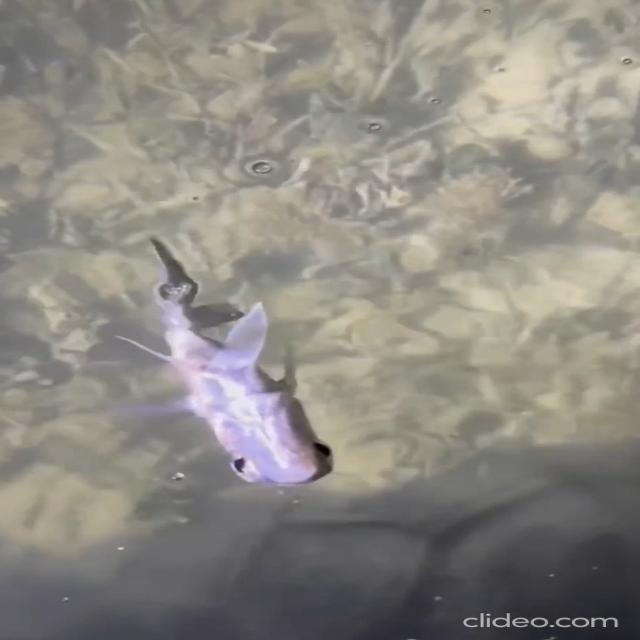fish: (118, 218, 350, 503)
